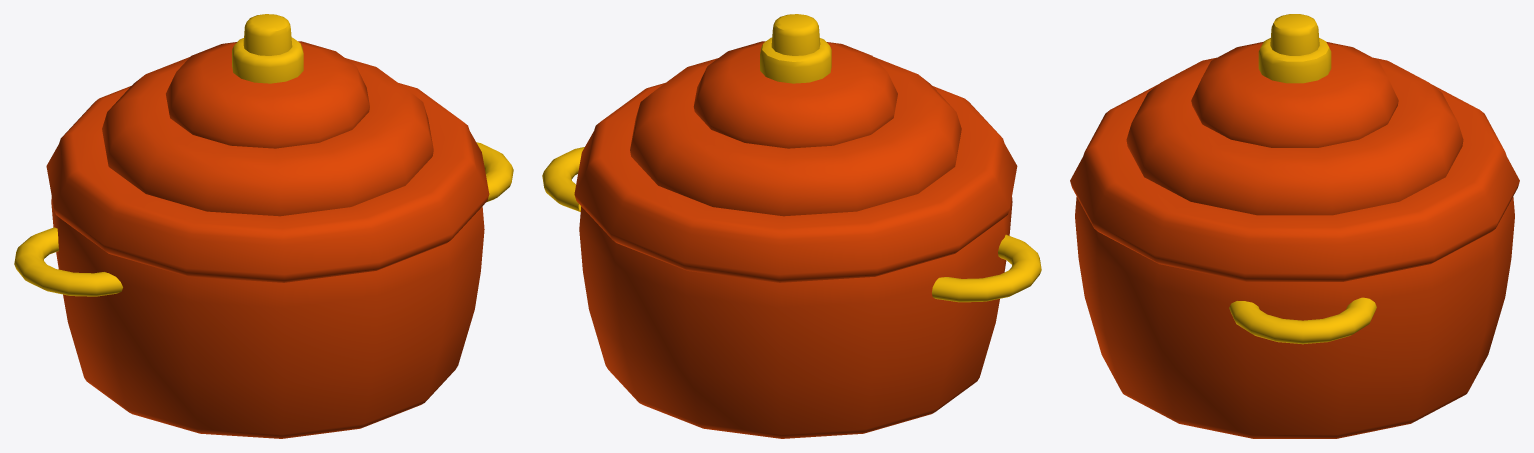
File: Food Pot_1.fbx
The picture shows the model from 3 angles, left to right: view 1: azimuth 30°, elevation 25°; view 2: azimuth 150°, elevation 25°; view 3: azimuth 270°, elevation 25°; orthographic projection.
Visible parts, largest first — view 1: Food Pot Cover_1, Food Pot_1; view 2: Food Pot Cover_1, Food Pot_1; view 3: Food Pot Cover_1, Food Pot_1.
Part boxes in pixels (x1,y1,x2,y2): Food Pot Cover_1: (46,14,489,282); Food Pot_1: (14,142,513,438); Food Pot Cover_1: (574,14,1017,282); Food Pot_1: (542,147,1041,438); Food Pot Cover_1: (1070,14,1519,281); Food Pot_1: (1075,197,1514,438).
Size of the model in its own units: 0.2796 by 0.1894 by 0.2255.
